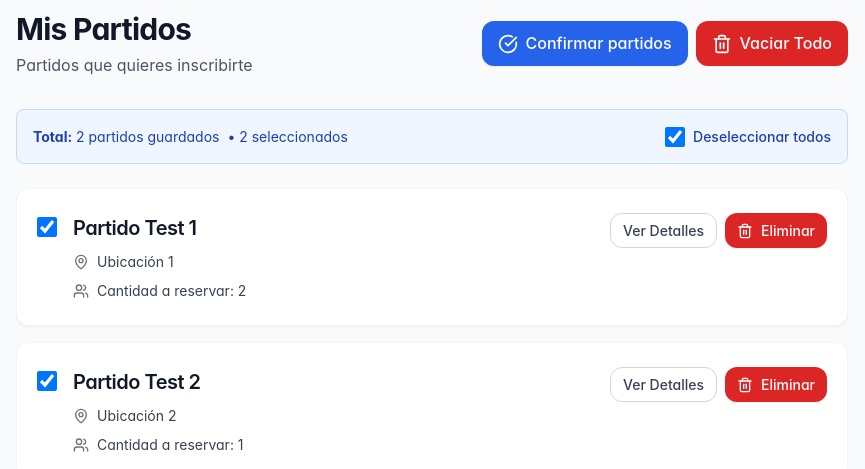
Test: MisPartidosPage › disables confirm button when no partidos are selected
Click the checkbox next to "Partido Test 1" at (47, 227), box 37,217 -> 57,237
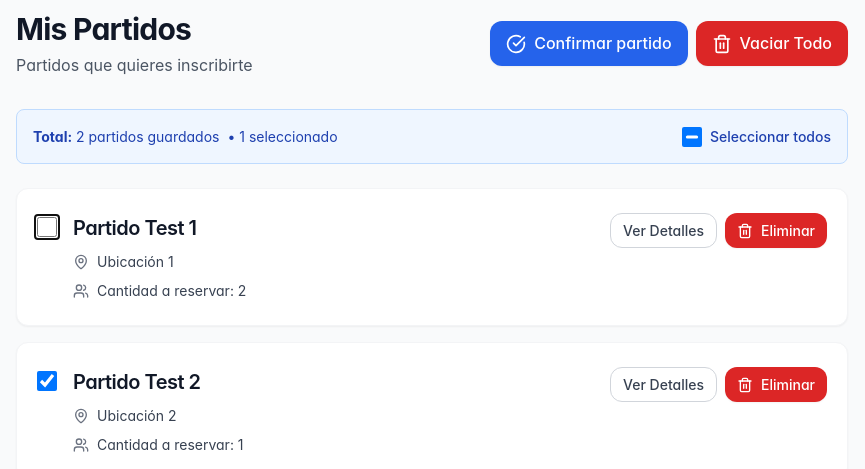
Click the checkbox next to "Partido Test 2" at (47, 381), box 37,371 -> 57,391
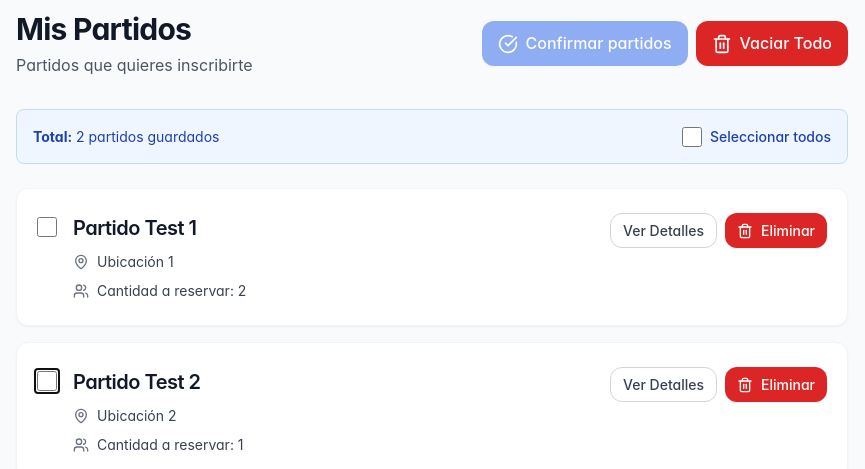
Check: the button "Confirmar partidos" is disabled, box 482,21 -> 688,66
